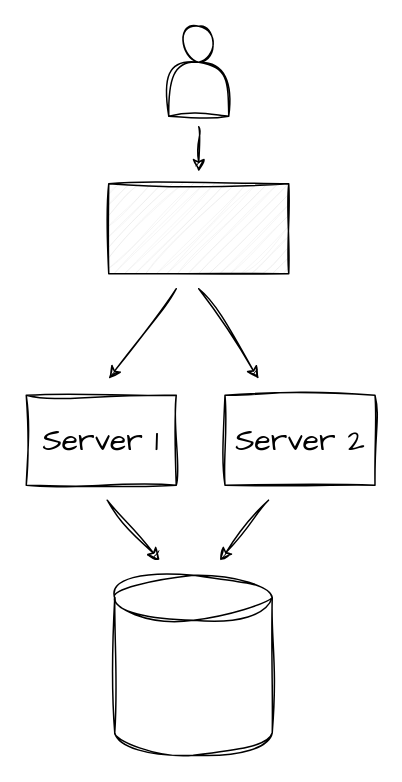
This 402x782 diagram has some shape labels left out. Here are the shapes that lost their labels. From the top down, the centre of each, then its label:
(198,228): LB
(192,664): DB
